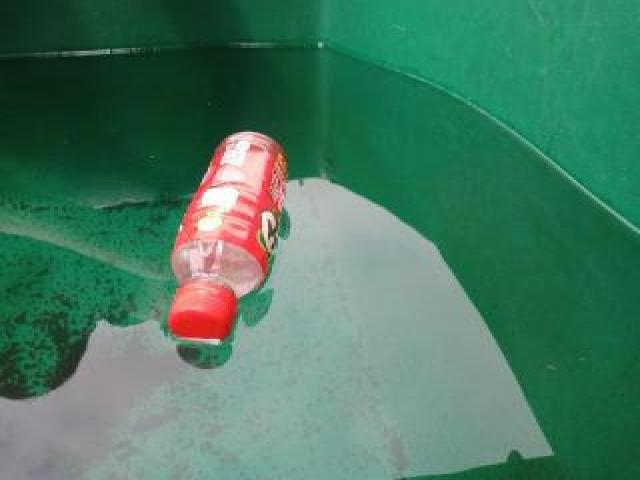Bottle: (163, 131, 295, 348)
